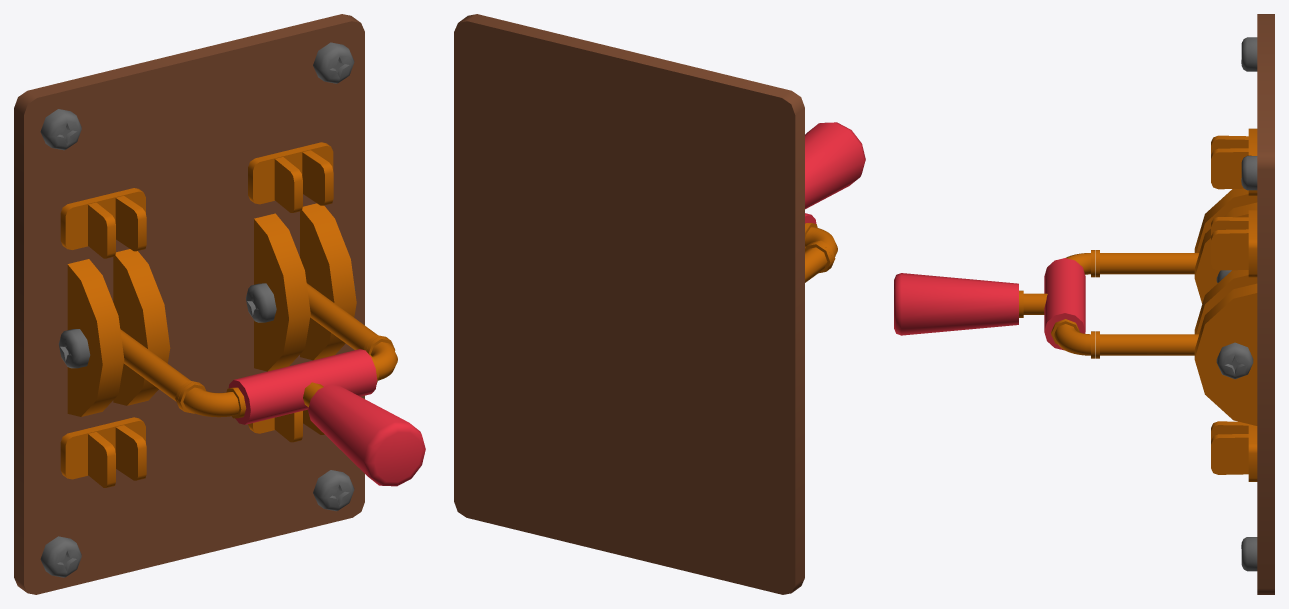
The model's file is ThrowSwitch.fbx.
The picture shows the model from 3 angles, left to right: view 1: azimuth 30°, elevation 25°; view 2: azimuth 150°, elevation 25°; view 3: azimuth 270°, elevation 25°; orthographic projection. The views are drawn at different scales.
Parts seen in each view (by area): view 1: ThrowSwitch; view 2: ThrowSwitch; view 3: ThrowSwitch.
Part boxes in pixels (left/top/right/bottom): ThrowSwitch: left=14, top=14, right=425, bottom=594; ThrowSwitch: left=454, top=14, right=865, bottom=594; ThrowSwitch: left=894, top=14, right=1274, bottom=594.
Size of the model in its own units: 200 by 278 by 217.
